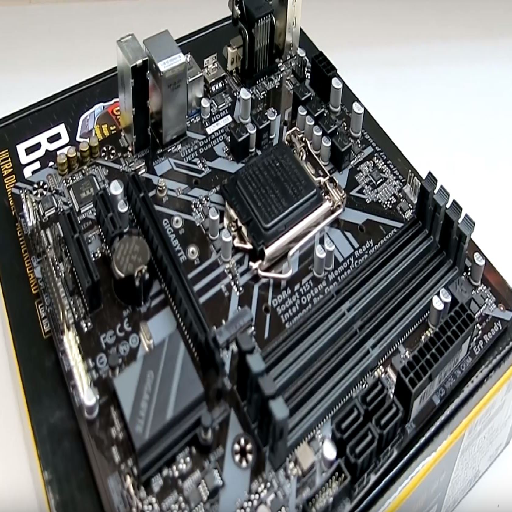CPU: (222, 139, 335, 258)
GPU: (120, 170, 226, 376)
MOTHERBOARD: (9, 13, 505, 510)
RAM: (234, 173, 476, 453)
SSD: (211, 304, 255, 352)
